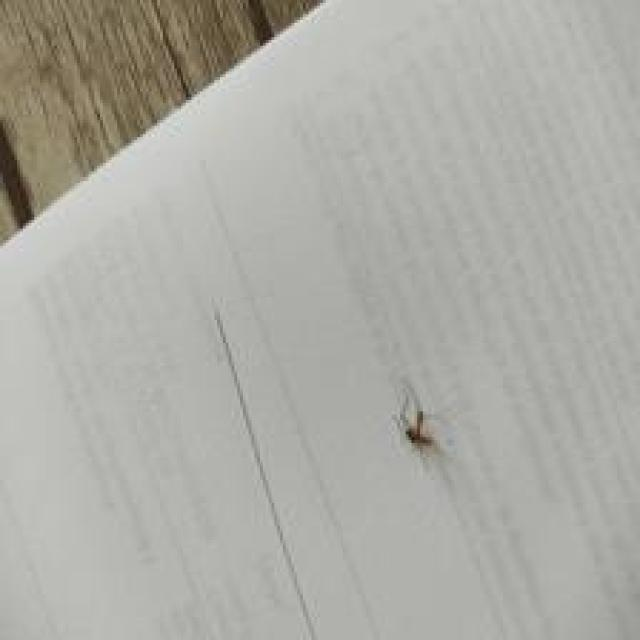Culex: (397, 384, 437, 456)
